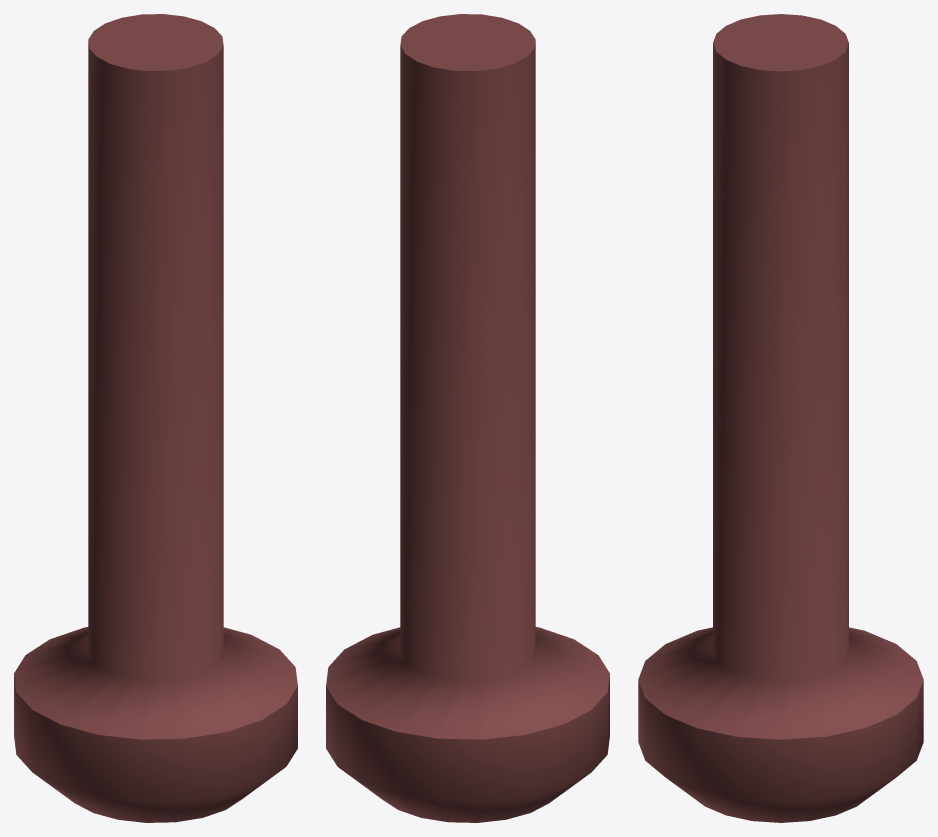
File: light_top.obj
3 renders of one model, left to right at view 1: azimuth 30°, elevation 25°; view 2: azimuth 150°, elevation 25°; view 3: azimuth 270°, elevation 25°, orthographic.
Visible parts, largest first — view 1: light_top; view 2: light_top; view 3: light_top.
Part boxes in pixels (x1=…): light_top: x1=14, y1=14, x2=297, y2=822; light_top: x1=326, y1=14, x2=609, y2=822; light_top: x1=638, y1=14, x2=923, y2=822.
Size of the model in its own units: 0.1843 by 0.5277 by 0.1843.
